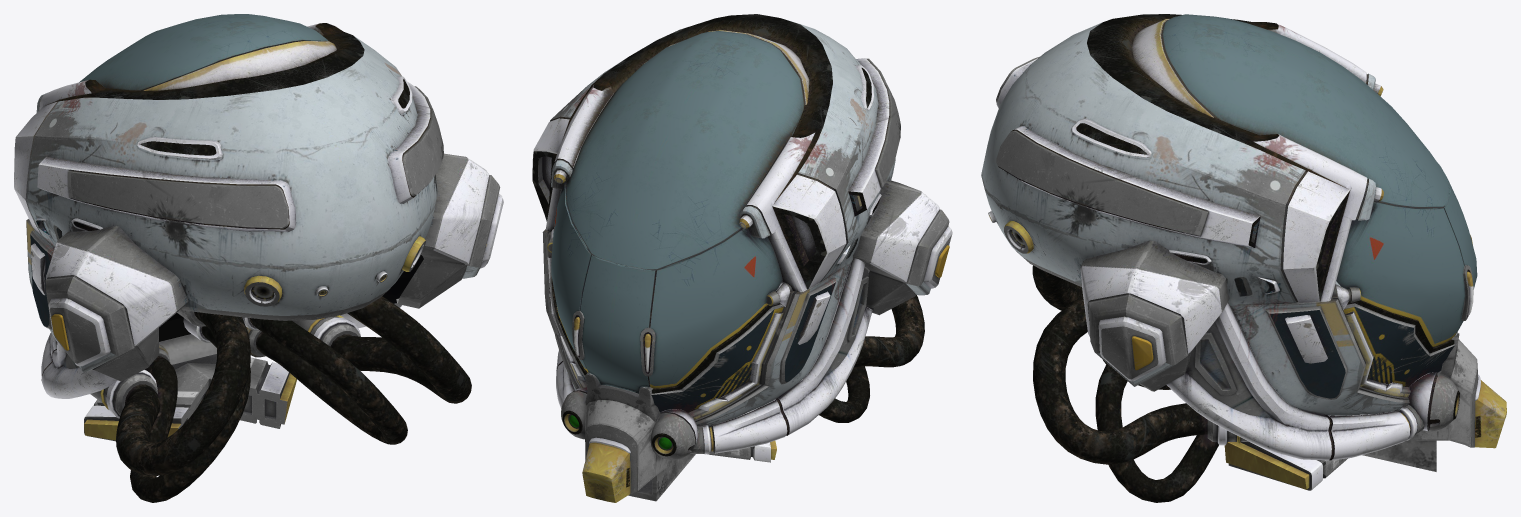
Rendered from helmet.obj.
The picture shows the model from 3 angles, left to right: view 1: azimuth 30°, elevation 25°; view 2: azimuth 150°, elevation 25°; view 3: azimuth 270°, elevation 25°; orthographic projection. The views are drawn at different scales.
Visible parts, largest first — view 1: helmet; view 2: helmet; view 3: helmet.
Boxes of the visible parts, x1=… form: helmet: x1=14, y1=14, x2=503, y2=502; helmet: x1=532, y1=14, x2=952, y2=502; helmet: x1=981, y1=14, x2=1506, y2=502.
Bounding box in the file's own units: 1.89 × 1.8 × 2.
1 material, 1 textured.
